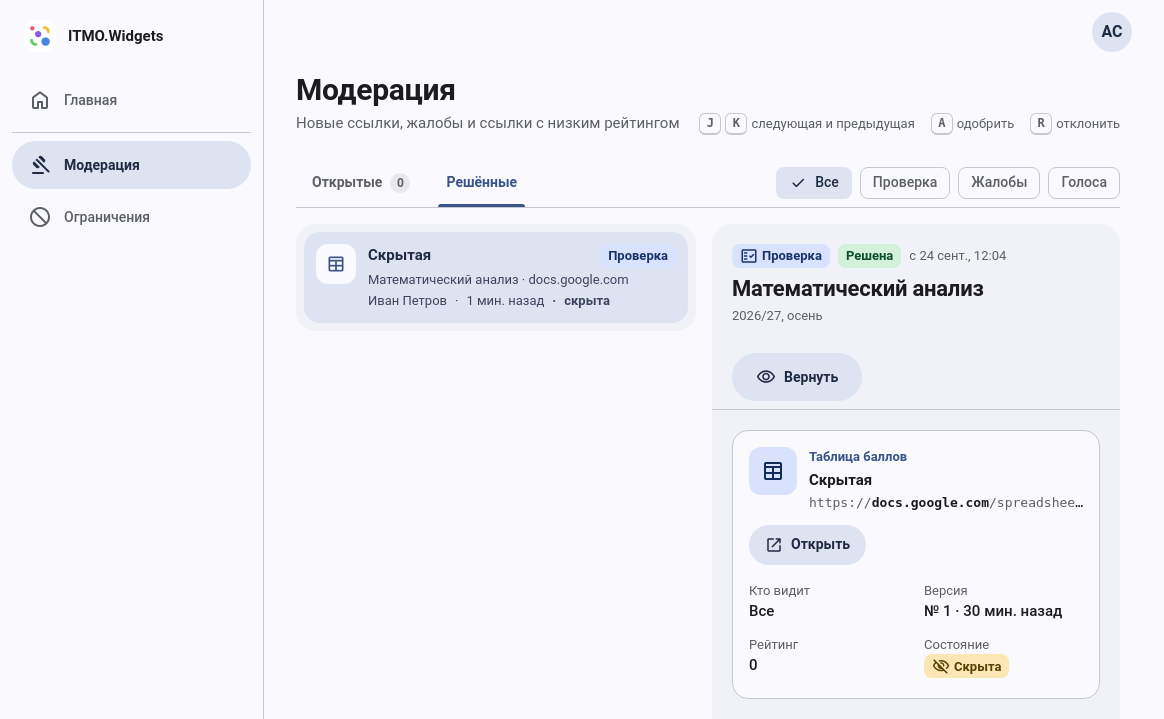
Test: ModerationPage › offers to restore a hidden link in a resolved case
This screenshot has width=1164, height=719.
Click the button "Вернуть" at coordinates (797, 377), box [732, 353, 862, 401]
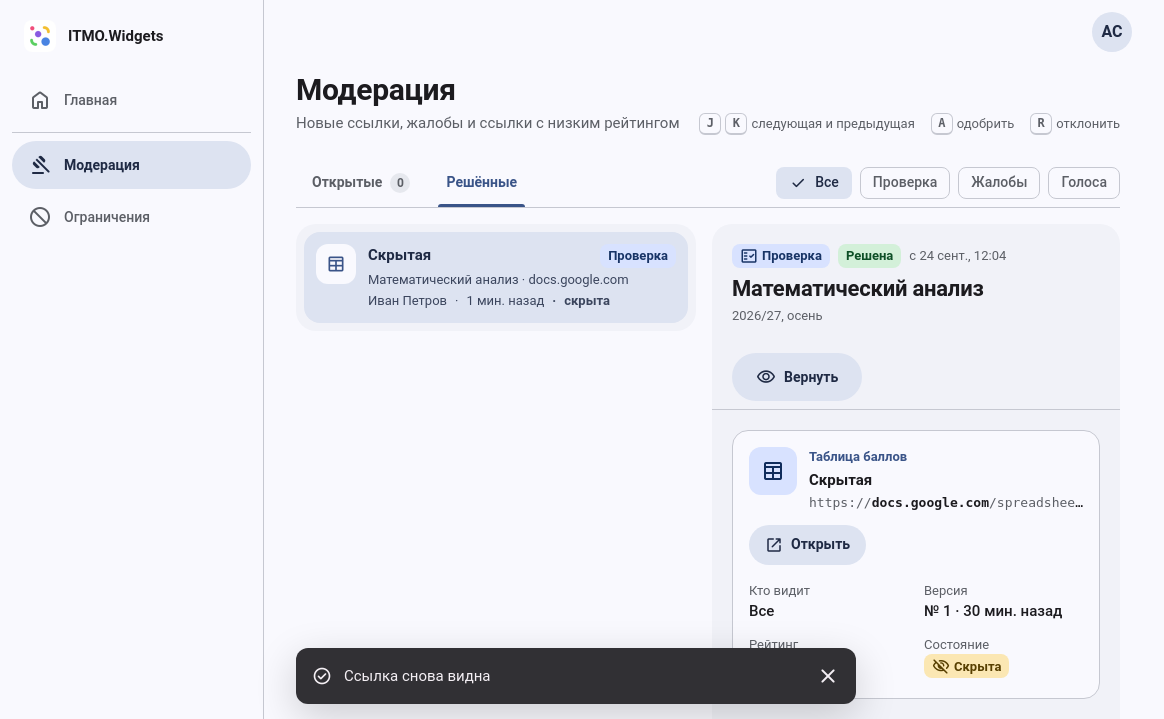
Check: the text "Ссылка снова видна" is shown, box [344, 667, 490, 685]
